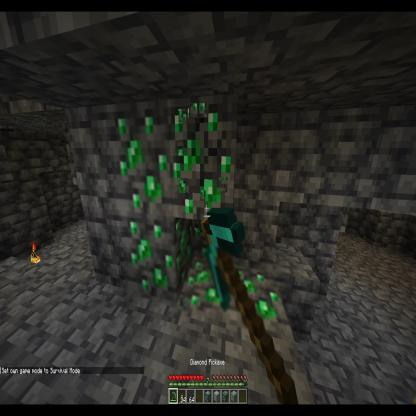emerald ore: (116, 91, 180, 218), (176, 97, 236, 230), (124, 216, 187, 306), (229, 262, 292, 333), (172, 246, 235, 317)
